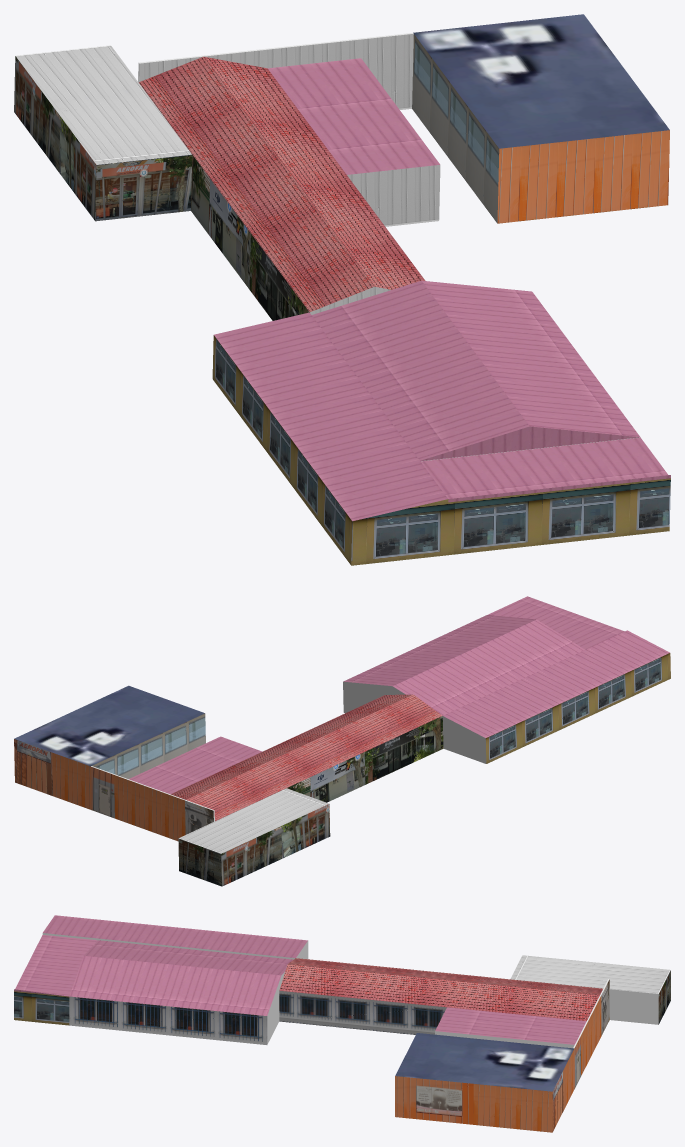
The model's file is Lecu_aerofan.gltf.
3 renders of one model, top to bottom at view 1: azimuth 30°, elevation 25°; view 2: azimuth 150°, elevation 25°; view 3: azimuth 270°, elevation 25°, orthographic. The views are drawn at different scales.
Visible parts, largest first — view 1: aerofan; view 2: aerofan; view 3: aerofan.
Boxes of the visible parts, box(x1,y1,x2,y2) form: aerofan: box(14, 14, 670, 565); aerofan: box(14, 596, 670, 886); aerofan: box(14, 915, 670, 1132).
Size of the model in its own units: 33.92 by 4.14 by 51.02.
